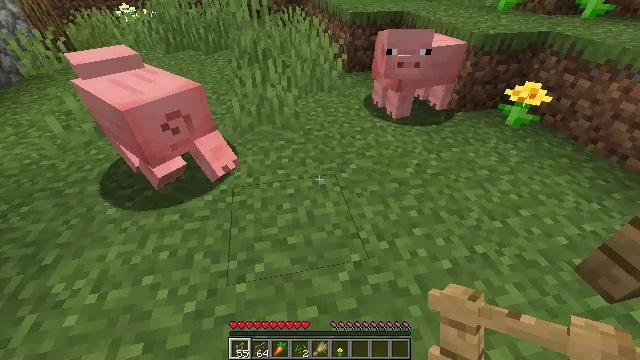pig: (67, 43, 239, 193), (370, 29, 467, 119)
